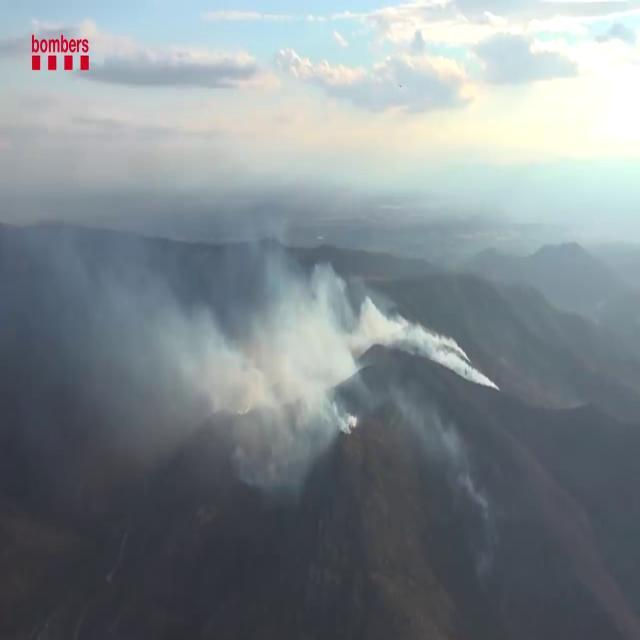Smoke: (77, 152, 395, 482)
